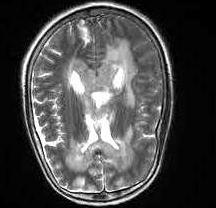Normal_Brain: (1, 1, 216, 208)
